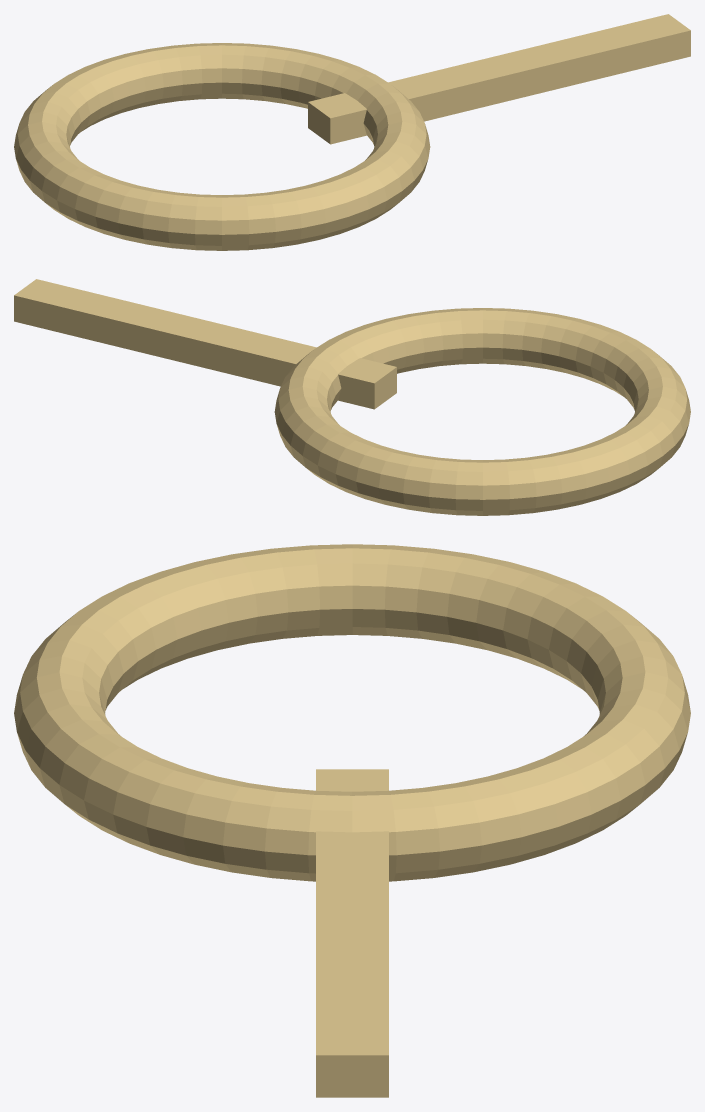
Rendered from oddity_0004.glb.
3 renders of one model, top to bottom at view 1: azimuth 30°, elevation 25°; view 2: azimuth 150°, elevation 25°; view 3: azimuth 270°, elevation 25°, orthographic. The views are drawn at different scales.
Parts seen in each view (by area): view 1: oddity_0004_Torus, oddity_0004_Cube; view 2: oddity_0004_Torus, oddity_0004_Cube; view 3: oddity_0004_Torus, oddity_0004_Cube.
Part boxes in pixels (left/top/right/bottom): oddity_0004_Torus: left=14, top=43, right=430, bottom=250; oddity_0004_Cube: left=308, top=14, right=690, bottom=144; oddity_0004_Torus: left=274, top=308, right=690, bottom=515; oddity_0004_Cube: left=14, top=279, right=396, bottom=409; oddity_0004_Torus: left=14, top=544, right=690, bottom=881; oddity_0004_Cube: left=316, top=769, right=388, bottom=1097.
Bounding box in the file's own units: 0.368 × 0.028 × 0.208.
